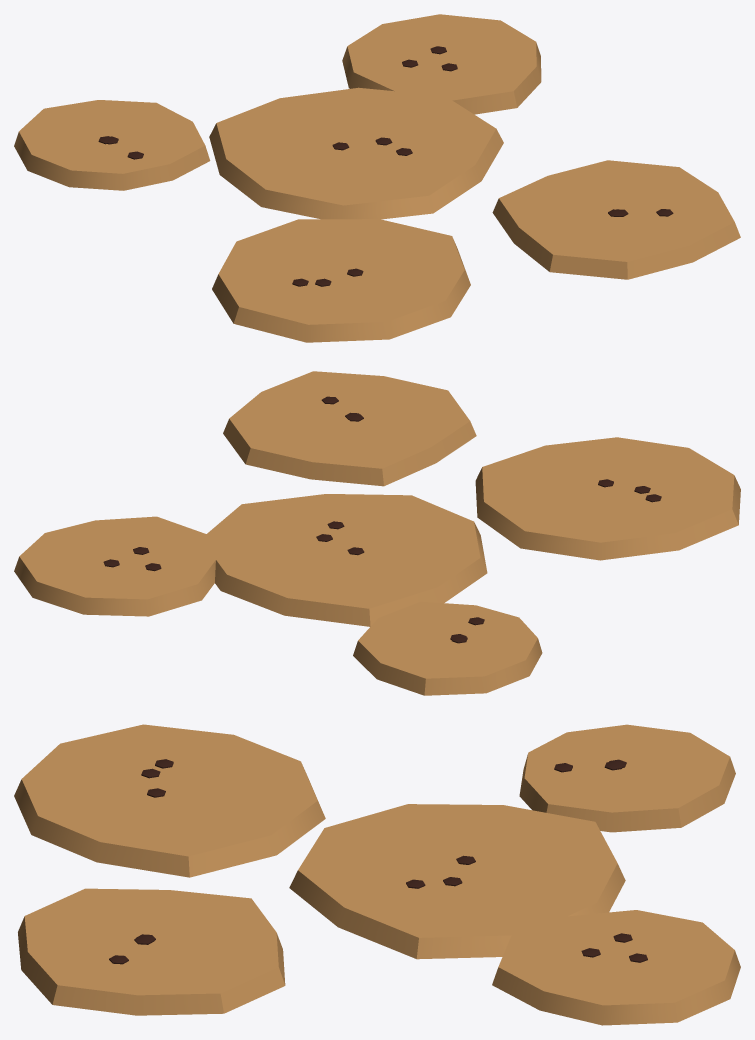
Rendered from Ground_Cookie_Path.fbx.
The picture shows the model from 3 angles, top to bottom: view 1: azimuth 30°, elevation 25°; view 2: azimuth 150°, elevation 25°; view 3: azimuth 270°, elevation 25°; orthographic projection. The views are drawn at different scales.
Parts seen in each view (by area): view 1: Ground_Cookie_Path_Mesh; view 2: Ground_Cookie_Path_Mesh; view 3: Ground_Cookie_Path_Mesh.
Boxes of the visible parts, <box> form: Ground_Cookie_Path_Mesh: <box>14,14,740,342</box>; Ground_Cookie_Path_Mesh: <box>14,371,740,695</box>; Ground_Cookie_Path_Mesh: <box>14,724,740,1025</box>.
Size of the model in its own units: 1.75 by 0.0585 by 1.87.
